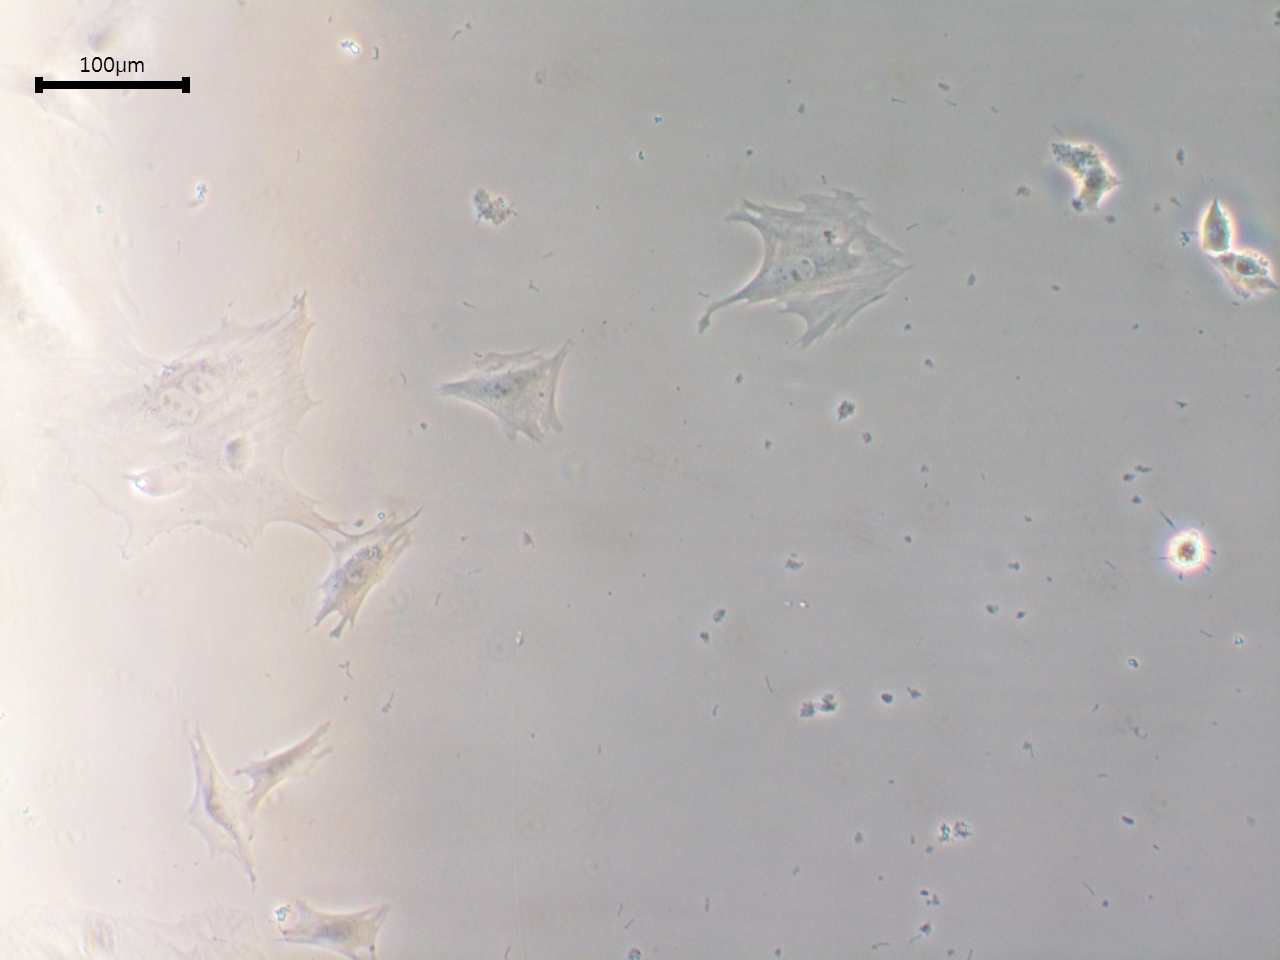dividing: (45, 312, 365, 543)
medium-polygonal: (411, 332, 597, 460), (153, 712, 266, 893), (255, 881, 411, 960)
medium-spread: (705, 174, 923, 377)
small-polygonal: (300, 516, 432, 639), (237, 717, 354, 793)
small-round: (1156, 520, 1222, 576)
small-spread: (1206, 242, 1280, 303), (1191, 182, 1230, 255)
